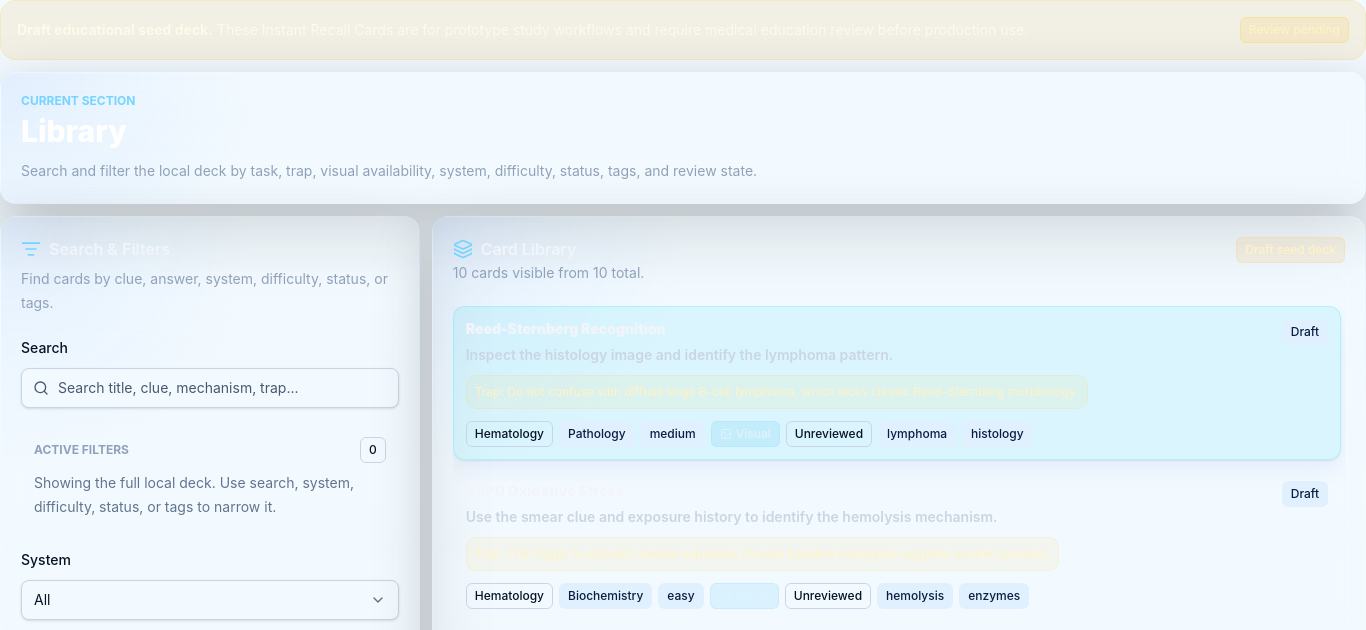
Test: InstantRecallEngine › searches cards and selects the first filtered result
Type "g6pd" into the field labelled "Search".
click(210, 388); type("g6pd")  # box [21,368,399,408]
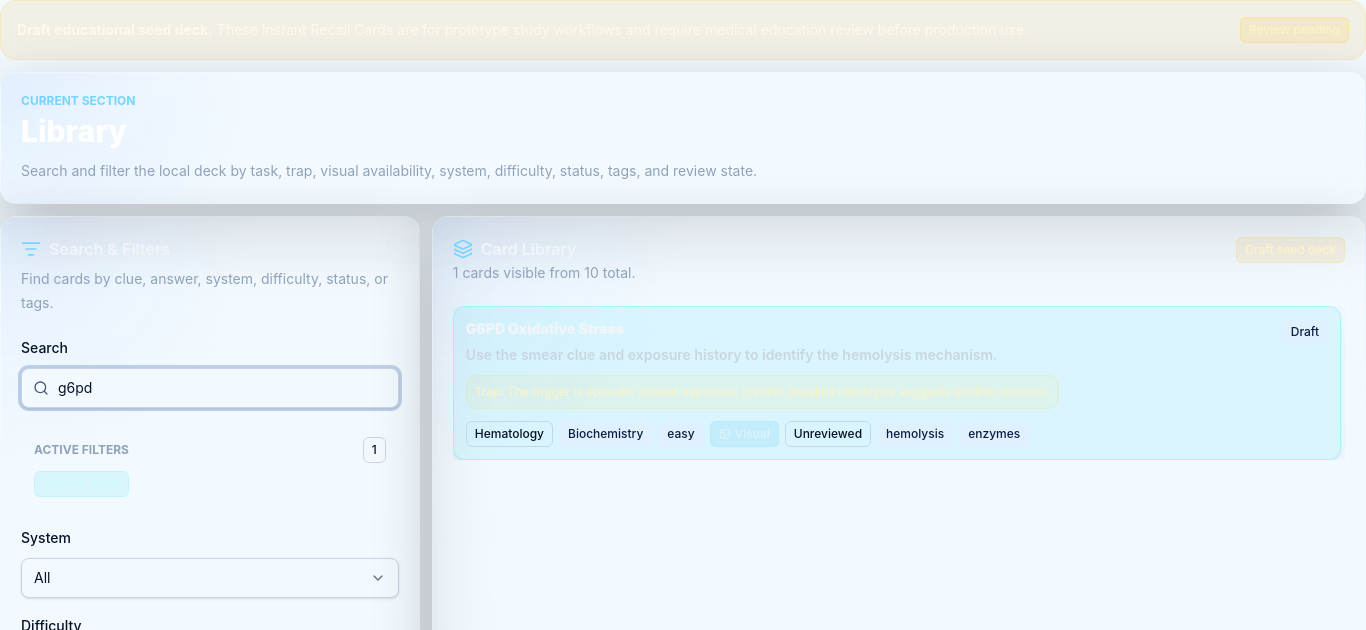
Result: the text "1 cards visible from 10 total." is shown at [453,260,636,284]
